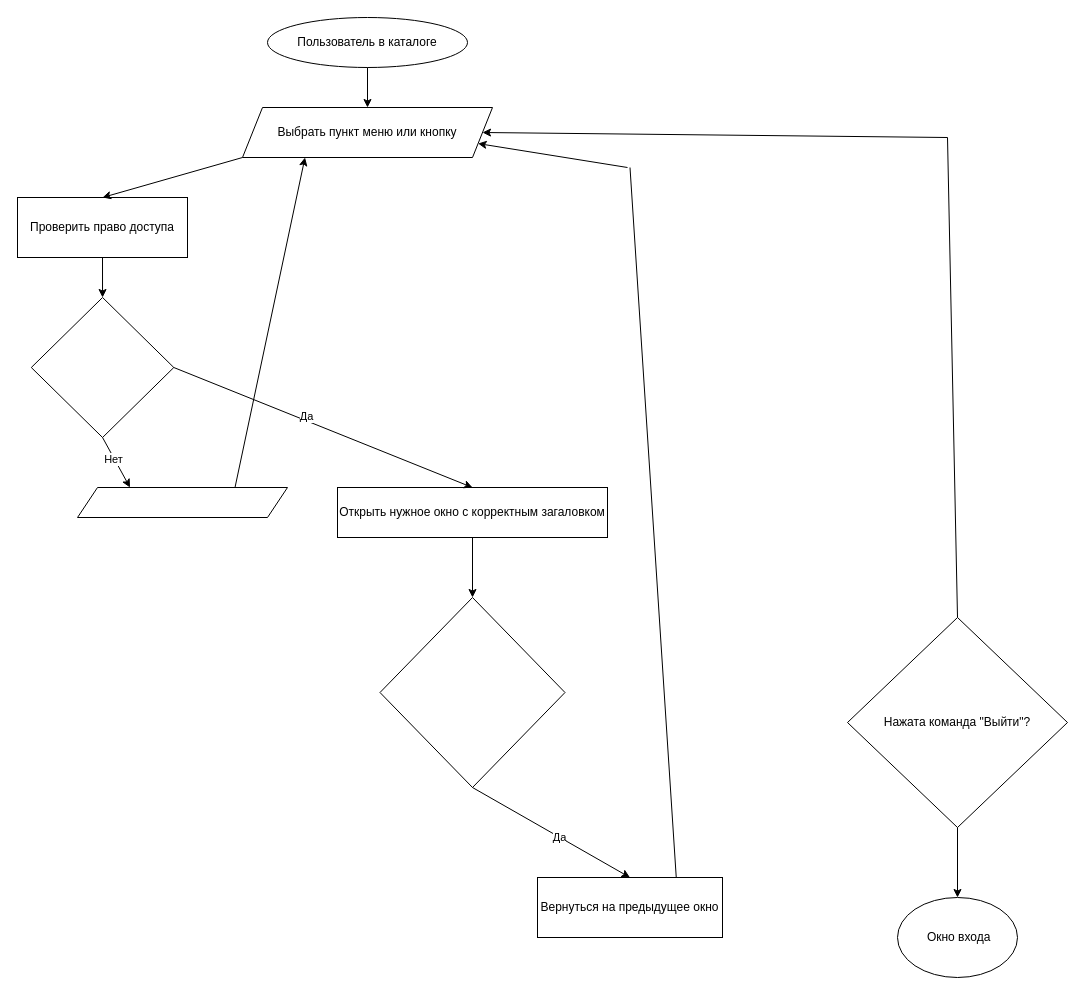
Image size: 1085x995. Some labels were removed from this diagram. Each missing label, with the centre of its shape:
Доступ разрешен?: point 102,367
Нажата кнопки "Назад"?: point 472,692
Сообщение о запрете действия: point 182,502
